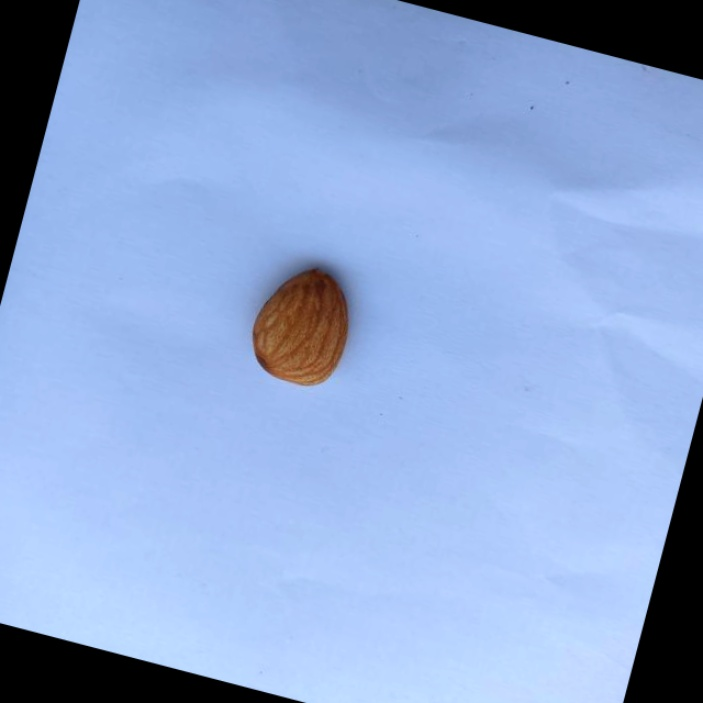grade1: (234, 246, 375, 404)
